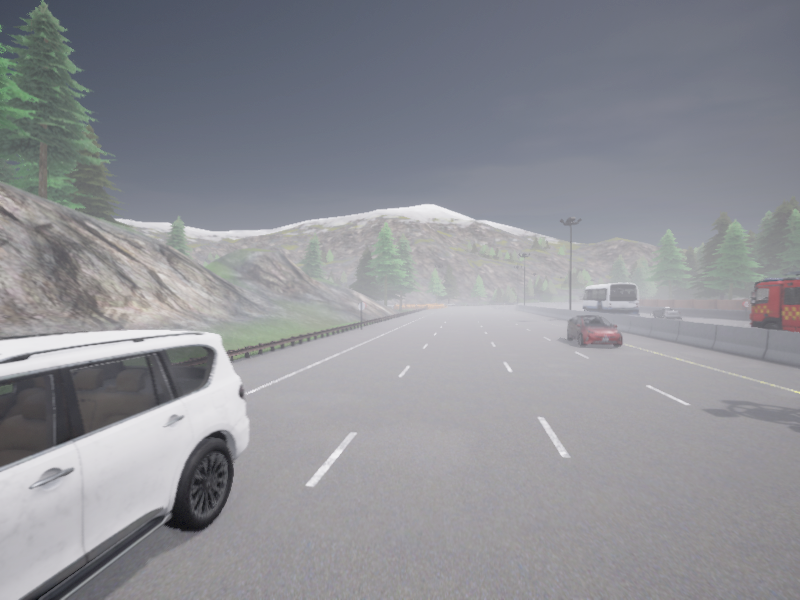vehicle: (0, 330, 249, 599), (750, 271, 799, 331), (579, 283, 638, 316), (566, 315, 622, 346), (652, 307, 681, 319)
